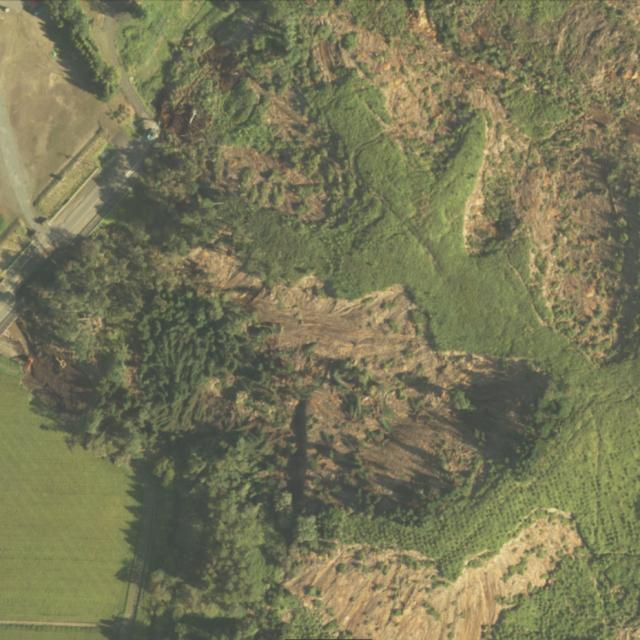landslide: (157, 1, 640, 362), (189, 246, 507, 518), (286, 510, 582, 640)
